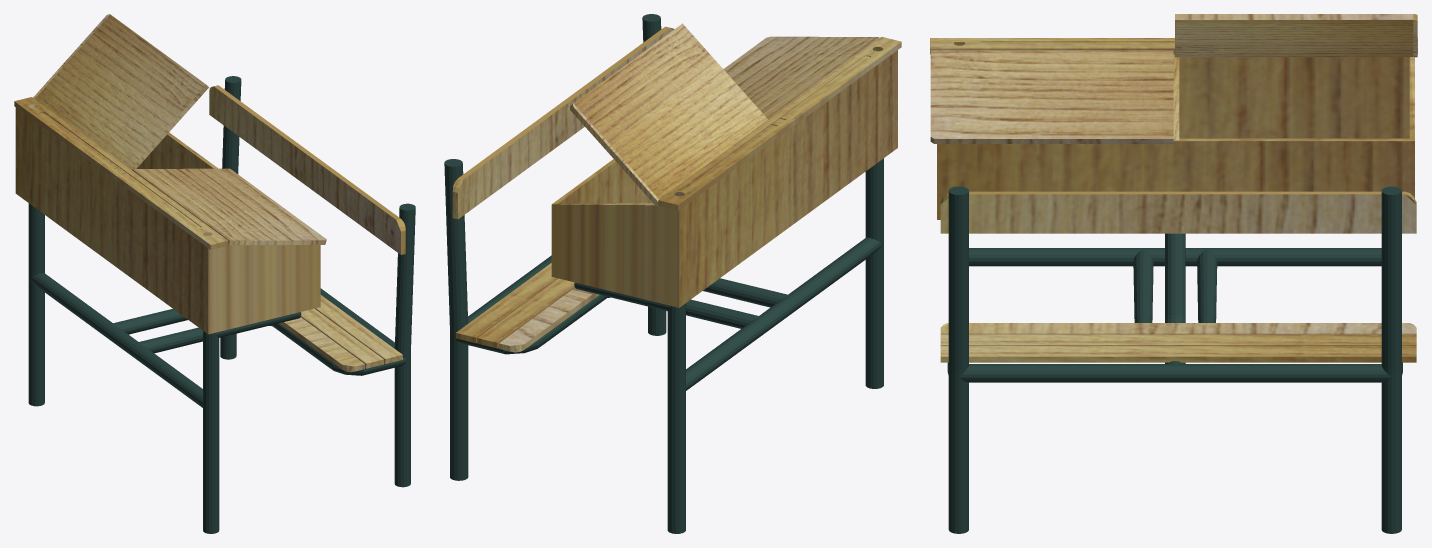
The model's file is bureauEcolier.obj.
3 views of the same model, side by side, from view 1: azimuth 30°, elevation 25°; view 2: azimuth 150°, elevation 25°; view 3: azimuth 270°, elevation 25° (orthographic). The views are drawn at different scales.
Parts seen in each view (by area): view 1: Casier, Armature, couvercle2, couvercle1, planche_do, planche_en, planche_bi, planche_1, planche_2, casier_int; view 2: Casier, Armature, couvercle2, couvercle1, planche_do, planche_en, casier_int, planche_bi, planche_1, planche_2; view 3: Armature, Casier, couvercle1, casier_int, planche_do, couvercle2, planche_1, planche_2, planche_bi, planche_en, separation.
Boxes of the visible parts, x1,y1,x2,y2 form: Casier: [15, 107, 320, 334]; Armature: [28, 76, 415, 533]; couvercle2: [33, 14, 208, 169]; couvercle1: [132, 168, 326, 245]; planche_do: [209, 85, 405, 254]; planche_en: [14, 97, 228, 249]; planche_bi: [279, 317, 364, 372]; planche_1: [315, 295, 402, 363]; planche_2: [301, 308, 383, 368]; casier_int: [28, 104, 213, 168]; Casier: [551, 50, 897, 307]; Armature: [444, 14, 883, 533]; couvercle2: [570, 23, 767, 205]; couvercle1: [723, 36, 879, 119]; planche_do: [452, 26, 674, 219]; planche_en: [658, 36, 901, 210]; casier_int: [558, 46, 883, 203]; planche_bi: [499, 288, 599, 352]; planche_1: [456, 263, 558, 343]; planche_2: [477, 278, 574, 348]; Armature: [947, 186, 1402, 533]; Casier: [937, 41, 1414, 219]; couvercle1: [930, 50, 1173, 143]; casier_int: [954, 42, 1409, 138]; planche_do: [940, 191, 1416, 233]; couvercle2: [1175, 14, 1417, 57]; planche_1: [940, 345, 1416, 362]; planche_2: [940, 334, 1416, 345]; planche_bi: [940, 323, 1416, 334]; planche_en: [930, 38, 1417, 54]; separation: [1173, 54, 1179, 140].
Bounding box in the file's own units: 5 × 8.02 × 7.89.
